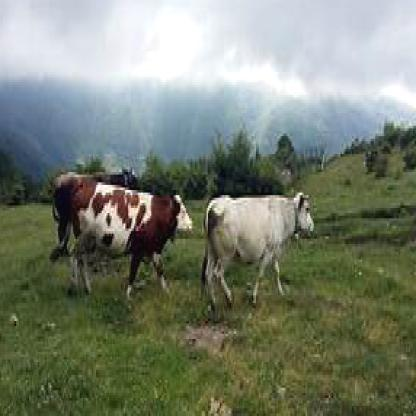cow: (50, 182, 194, 298), (200, 190, 316, 313)
